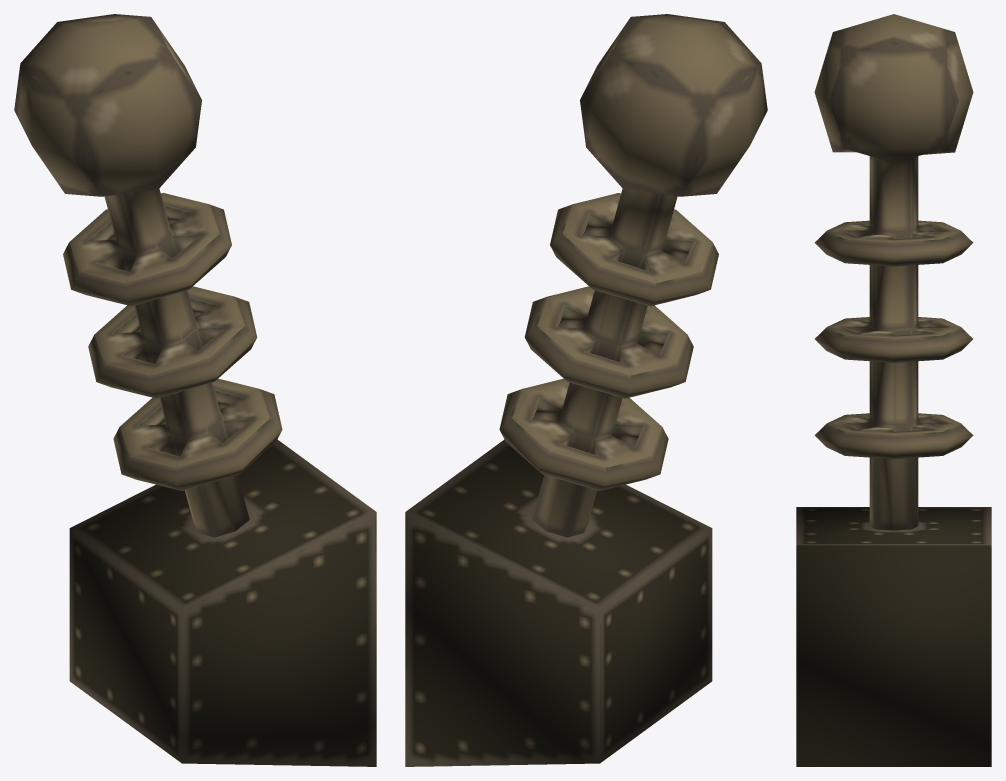
The model's file is TeslaCoil.fbx.
3 views of the same model, side by side, from view 1: azimuth 30°, elevation 25°; view 2: azimuth 150°, elevation 25°; view 3: azimuth 270°, elevation 25° (orthographic). The views are drawn at different scales.
Visible parts, largest first — view 1: TeslaCoil; view 2: TeslaCoil; view 3: TeslaCoil.
Boxes of the visible parts, x1=… form: TeslaCoil: x1=14, y1=14, x2=376, y2=766; TeslaCoil: x1=405, y1=14, x2=767, y2=766; TeslaCoil: x1=796, y1=14, x2=991, y2=766.
Bounding box in the file's own units: 148 × 369 × 100.
